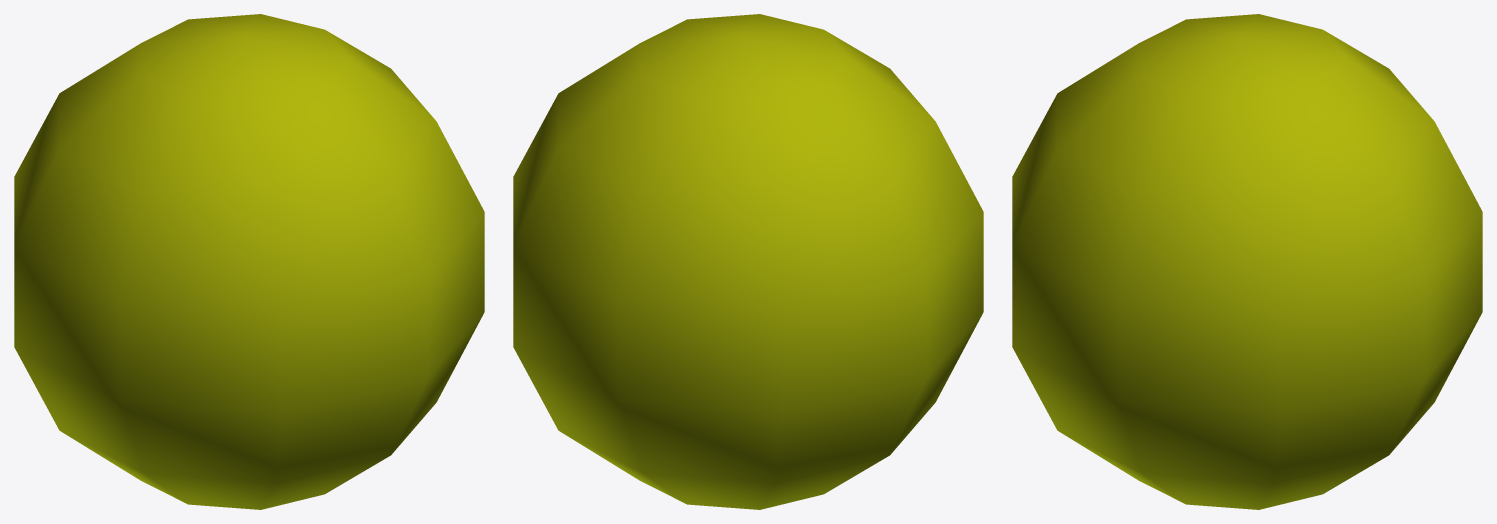
Rendered from T Bush 1.fbx.
3 views of the same model, side by side, from view 1: azimuth 30°, elevation 25°; view 2: azimuth 150°, elevation 25°; view 3: azimuth 270°, elevation 25° (orthographic).
Parts seen in each view (by area): view 1: Bush.002; view 2: Bush.002; view 3: Bush.002.
Boxes of the visible parts, x1=… form: Bush.002: x1=14, y1=14, x2=484, y2=509; Bush.002: x1=513, y1=14, x2=983, y2=509; Bush.002: x1=1012, y1=14, x2=1482, y2=509.
Bounding box in the file's own units: 1.73 × 1.81 × 1.71.
